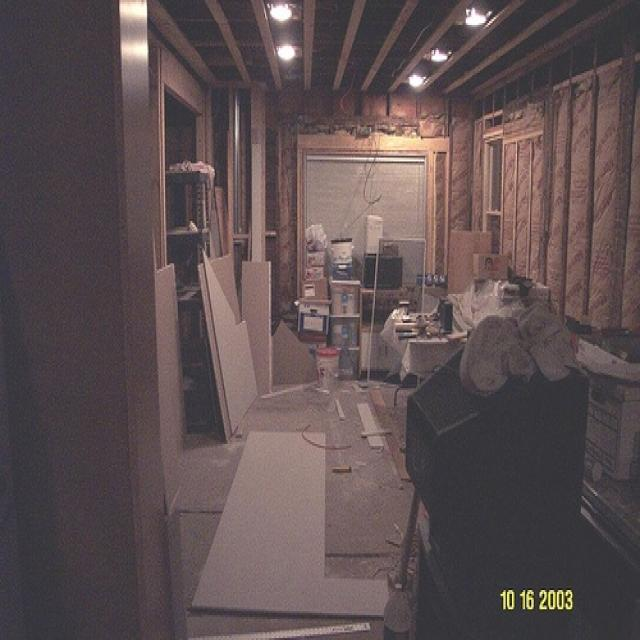tvmonitor: (406, 309, 596, 548)
